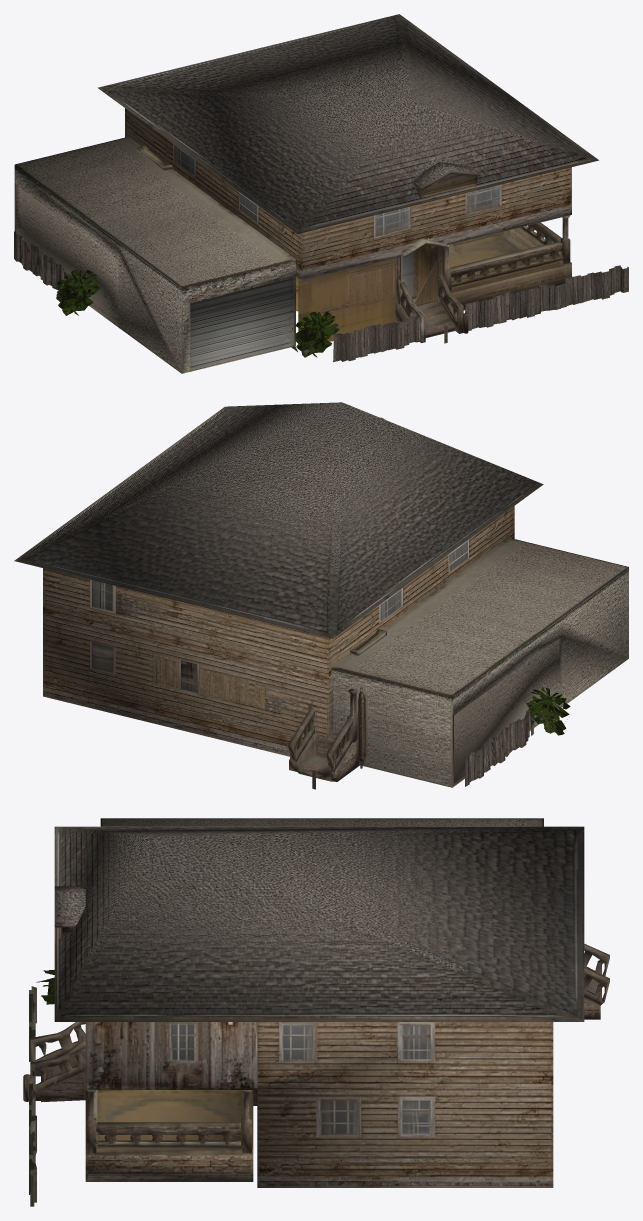
File: Croyden+spartan+traphouse+3d+model.glb
3 views of the same model, one above another, from view 1: azimuth 30°, elevation 25°; view 2: azimuth 150°, elevation 25°; view 3: azimuth 270°, elevation 25° (orthographic). The views are drawn at different scales.
Parts seen in each view (by area): view 1: tripo_node_60eaf9d2-94fc-456e-8fe8-7355561027ee; view 2: tripo_node_60eaf9d2-94fc-456e-8fe8-7355561027ee; view 3: tripo_node_60eaf9d2-94fc-456e-8fe8-7355561027ee.
Boxes of the visible parts, x1,y1,x2,y2 form: tripo_node_60eaf9d2-94fc-456e-8fe8-7355561027ee: (14, 14, 628, 373); tripo_node_60eaf9d2-94fc-456e-8fe8-7355561027ee: (14, 402, 628, 789); tripo_node_60eaf9d2-94fc-456e-8fe8-7355561027ee: (23, 818, 609, 1206).
Bounding box in the file's own units: 0.998 × 0.4238 × 0.8887.
1 material, 1 textured.
